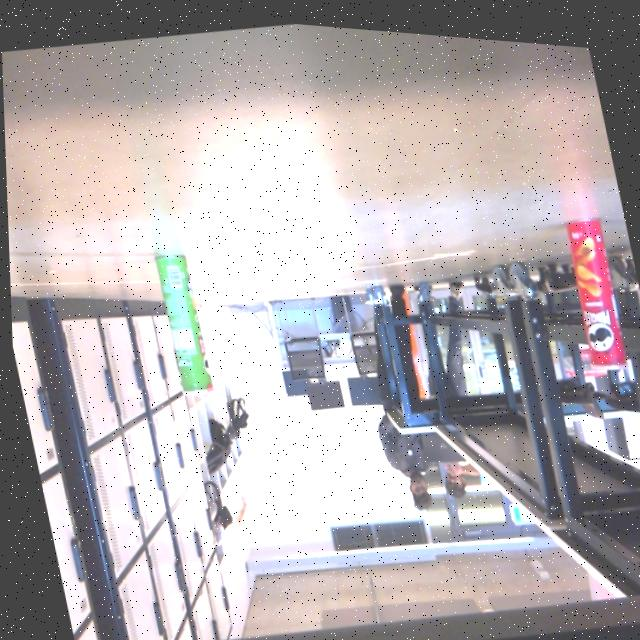greenpringles: (141, 236, 226, 410)
redpringles: (552, 199, 631, 371)
